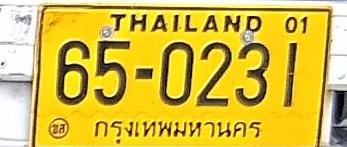0: (160, 41, 194, 106)
1: (283, 42, 297, 107)
2: (197, 42, 232, 106)
3: (235, 42, 270, 106)
5: (94, 39, 131, 106)
6: (56, 40, 90, 105)
BKK: (87, 111, 266, 144)
